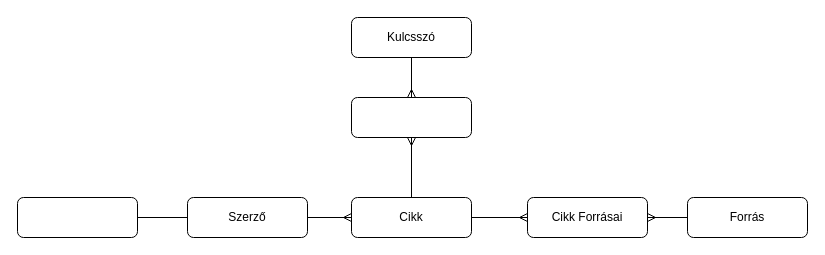
Some shapes in this 825 by 255 pixel diagram are drawn without their labels. Each missing label, with the centre of its shape:
"Cikk kulcsszavai" goes at (411,117).
"Felhasználó" goes at (77,217).
